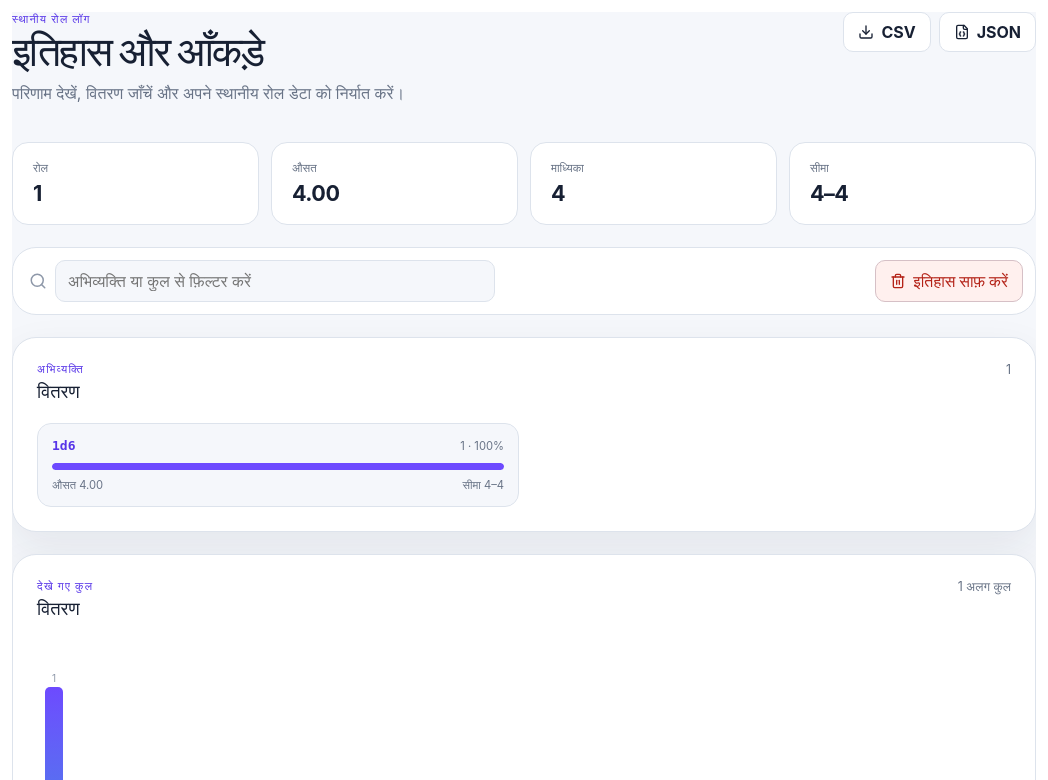
it: HistoryPanel localized export feedback › reports a successful browser export in Hindi
The image size is (1048, 780).
Click the button "CSV".
click(887, 32)  # box [843, 12, 931, 52]
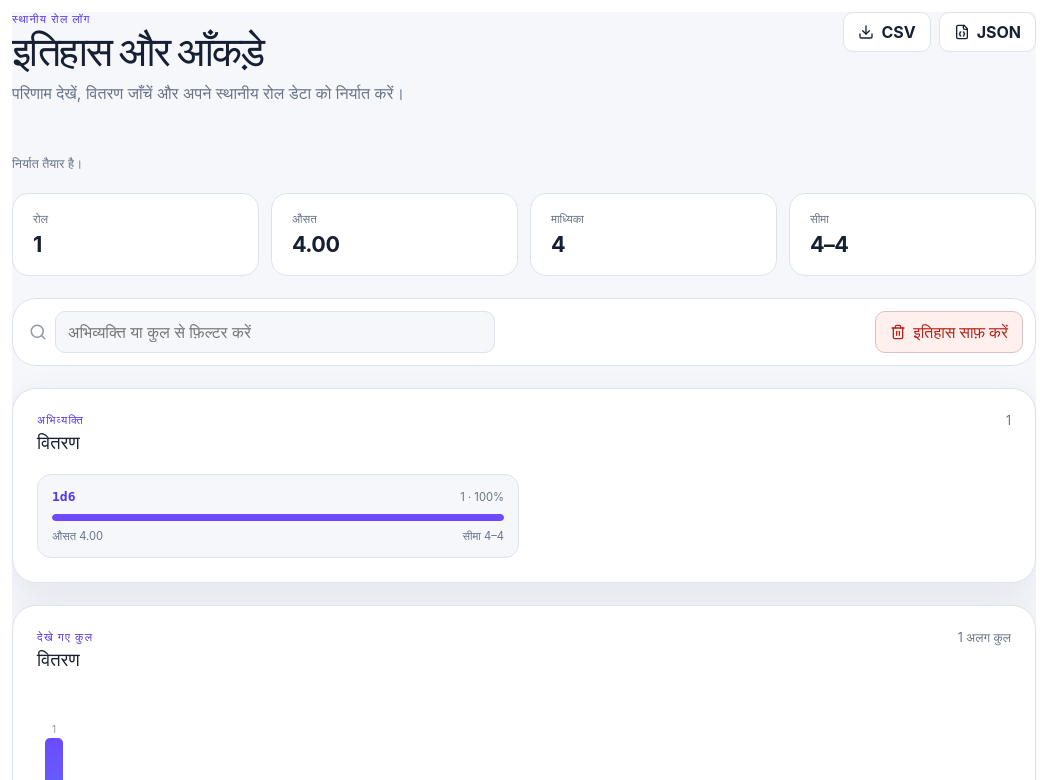
Check: the message reads "निर्यात तैयार है।", box [12, 156, 82, 171]
